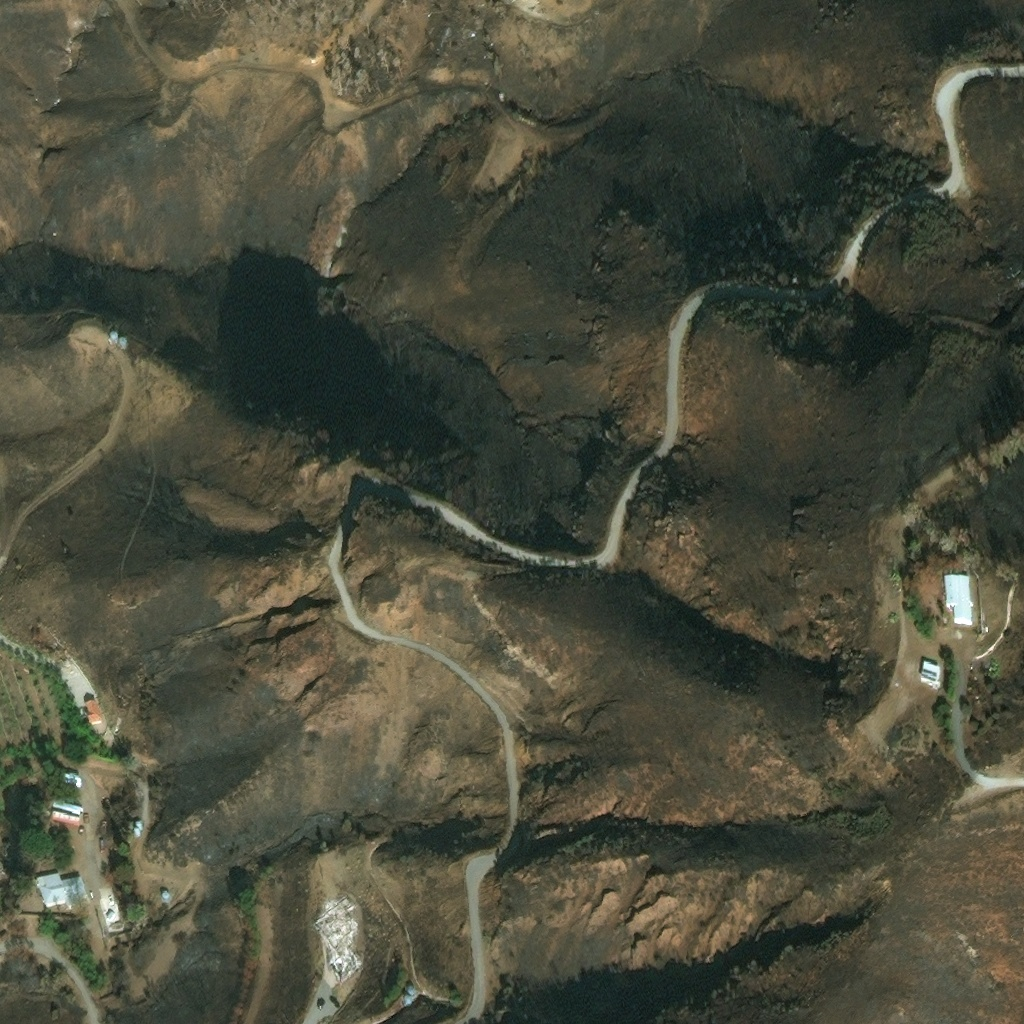0 no-damage: (35, 872, 88, 907), (945, 572, 973, 622), (98, 883, 126, 933), (52, 799, 83, 821), (919, 659, 942, 688), (84, 699, 103, 724), (58, 770, 83, 786), (107, 331, 121, 343), (117, 336, 129, 348), (160, 891, 170, 900), (134, 820, 143, 827)
3 destroyed: (310, 888, 358, 977)
4 un-classified: (1015, 275, 1023, 284)
